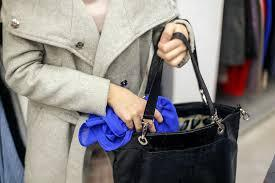shoplifting: (0, 0, 245, 183)
